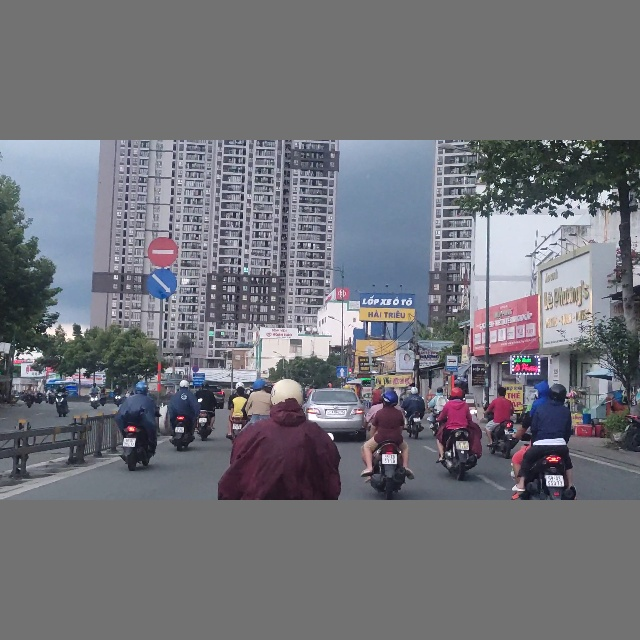I.407a: (337, 367, 348, 377)
I.434a: (445, 355, 458, 371)
P.102: (146, 233, 179, 267)
R.302a: (145, 266, 178, 300)
